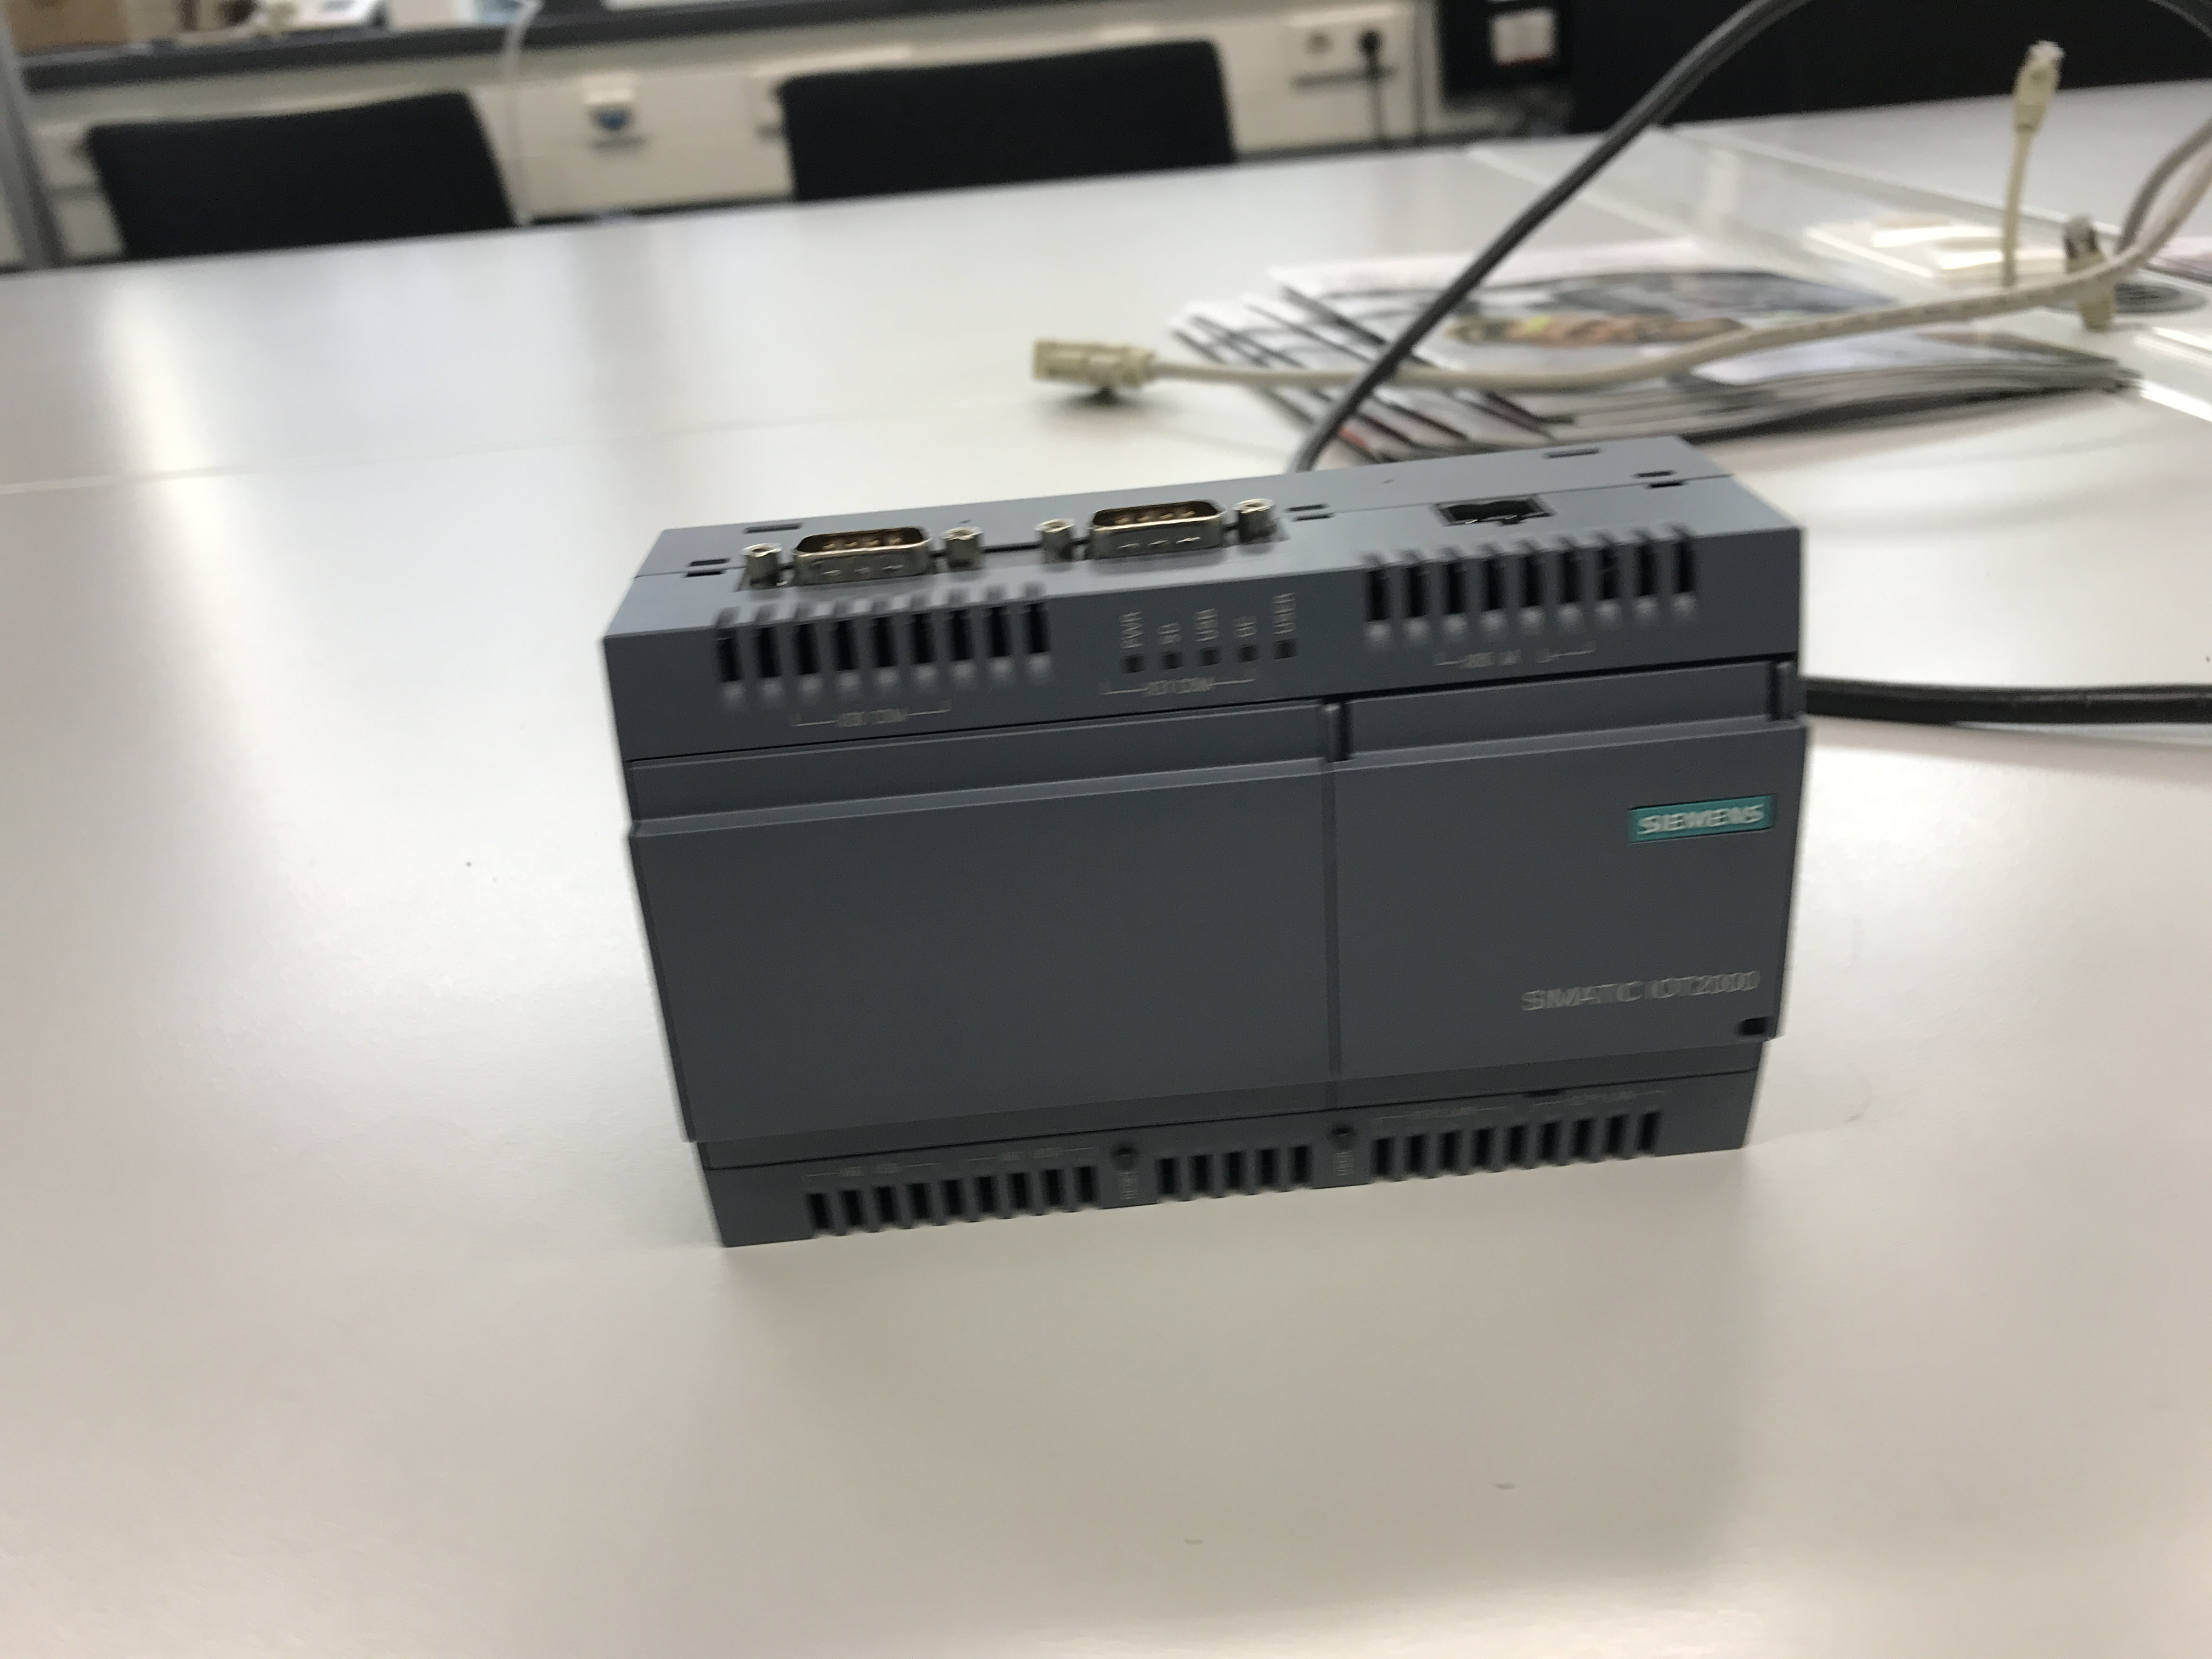device: (601, 430, 1810, 1251)
